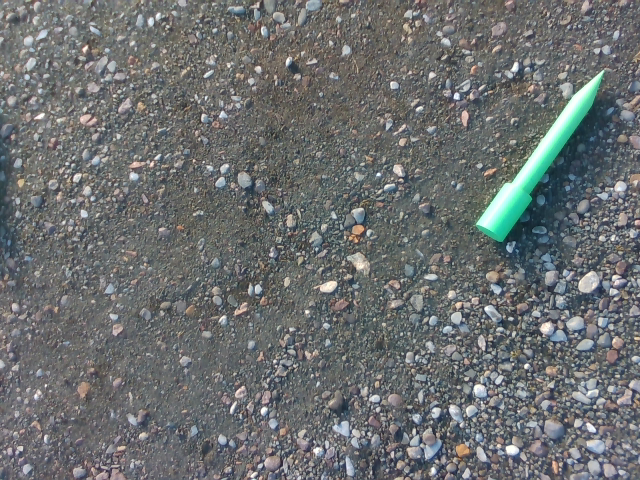Probe: (472, 61, 611, 249)
